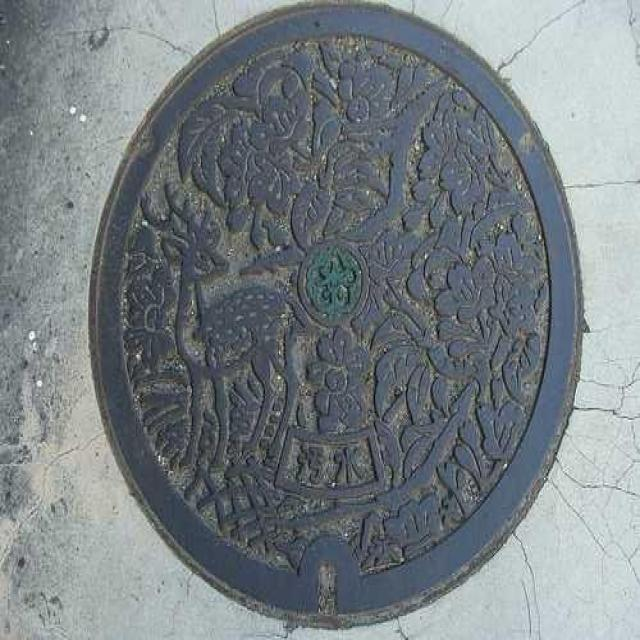manhole: (90, 7, 581, 624)
